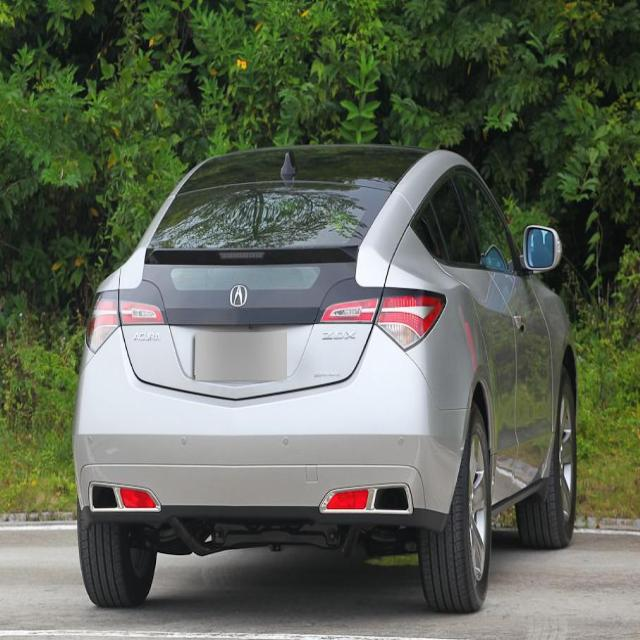back_glass: (145, 185, 384, 255)
back_left_side_light: (84, 293, 166, 359)
back_right_side_light: (318, 290, 447, 354)
front_right_side_door: (448, 163, 556, 504)
front_right_side_mirror: (519, 224, 562, 271)
rear_bumper: (71, 317, 471, 534)
wheel: (418, 411, 492, 609), (514, 369, 578, 541), (76, 509, 159, 606)
